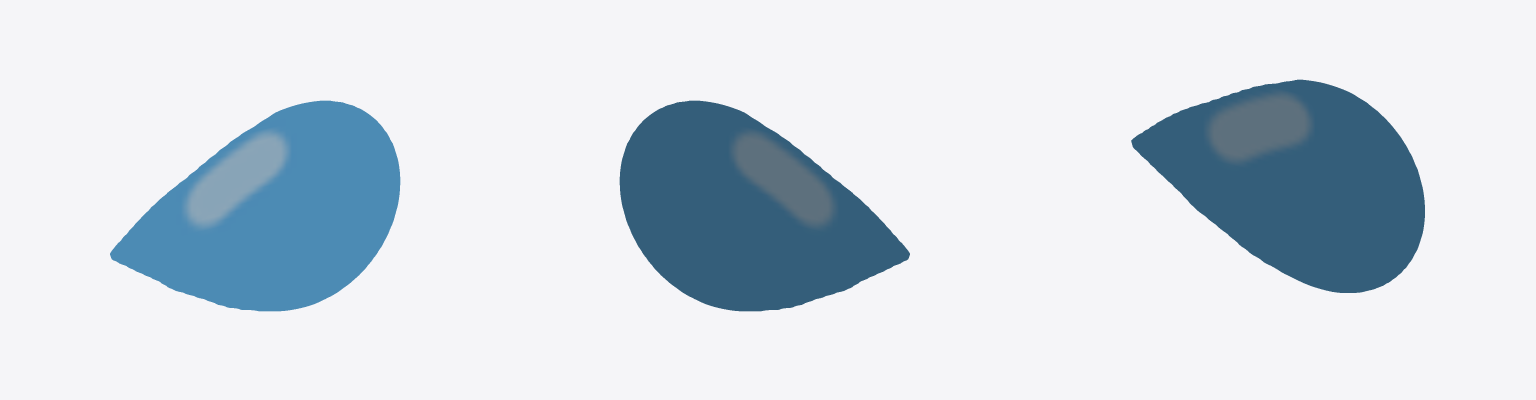
The model's file is nangua_bullet_water.FBX.
The picture shows the model from 3 angles, left to right: view 1: azimuth 30°, elevation 25°; view 2: azimuth 150°, elevation 25°; view 3: azimuth 330°, elevation 25°; orthographic projection.
Visible parts, largest first — view 1: bullet_water; view 2: bullet_water; view 3: bullet_water.
Part boxes in pixels (box(x1,y1,x2,y2)): bullet_water: box(110, 100, 400, 311); bullet_water: box(619, 100, 909, 311); bullet_water: box(1131, 79, 1424, 292).
Size of the model in its own units: 72.42 by 53.14 by 1.24e-05.
